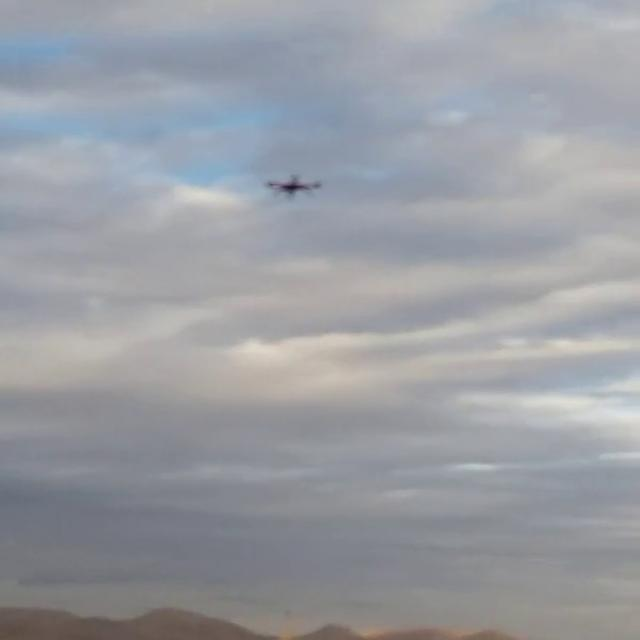drone: (260, 168, 329, 202)
